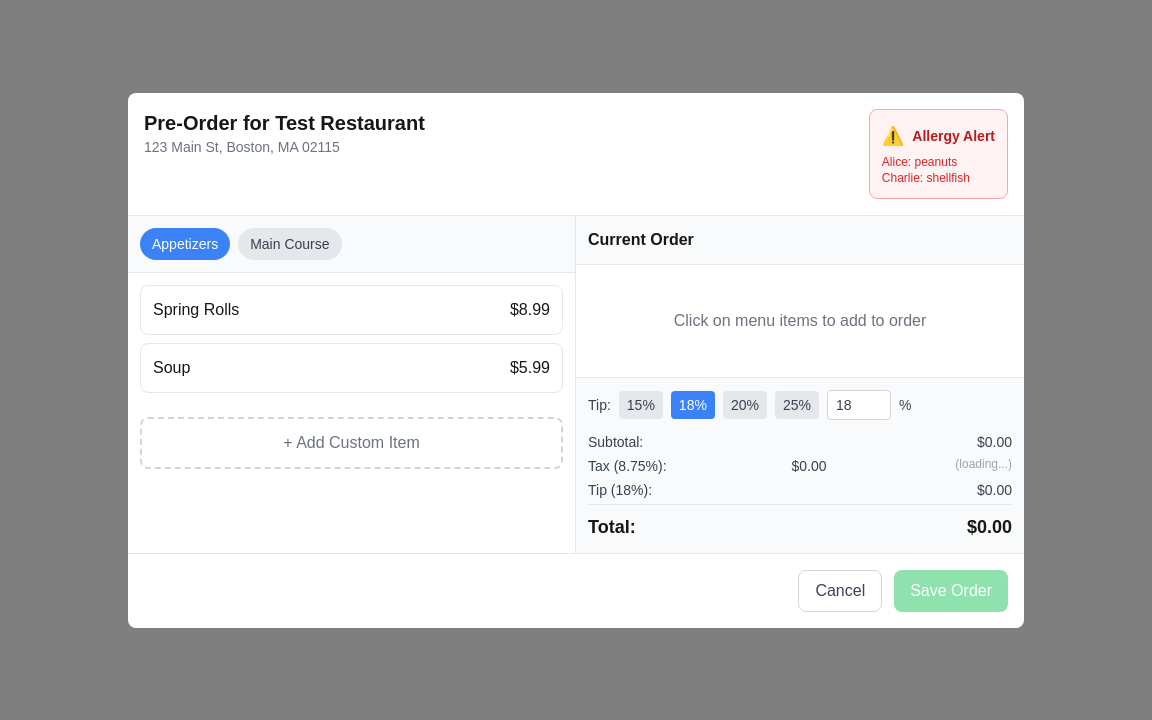
PreOrder › shows member selection modal when clicking menu item
The width and height of the screenshot is (1152, 720).
Click the text "Spring Rolls".
click(196, 310)  # box top-left (153, 298), bottom-right (239, 322)
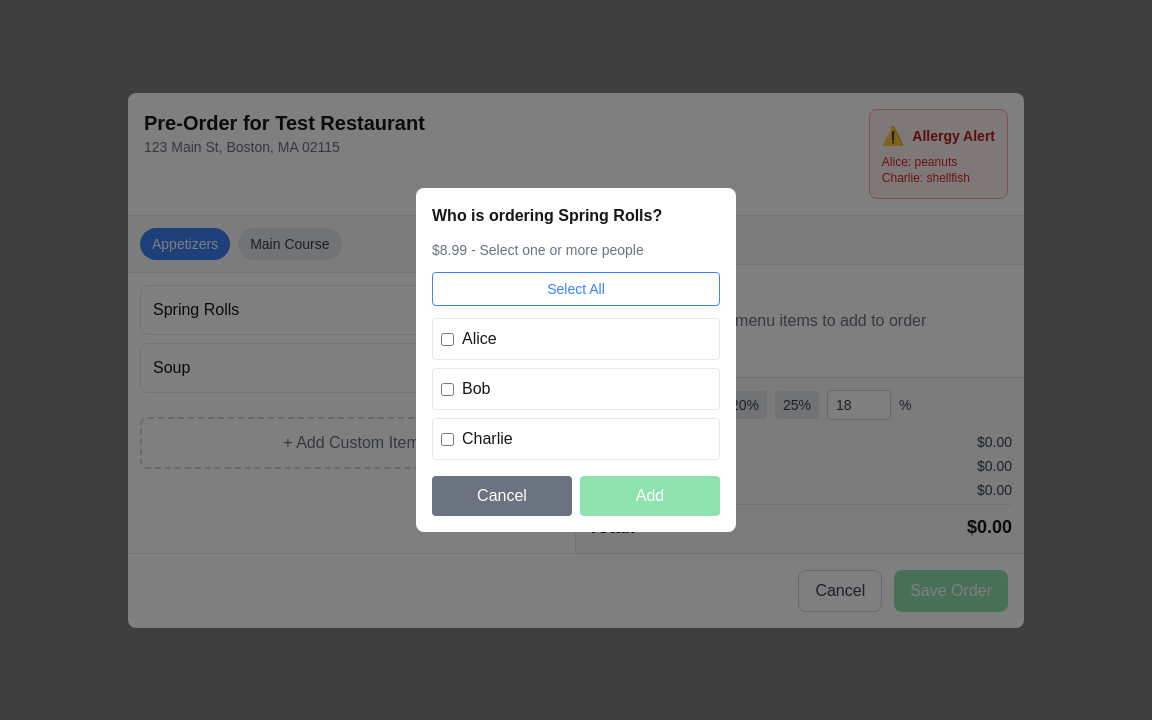
Expected: the heading "Who is ordering Spring Rolls?" is shown, top-left (432, 207), bottom-right (662, 224)
Expected: the button "Select All" is shown, top-left (432, 272), bottom-right (720, 306)
